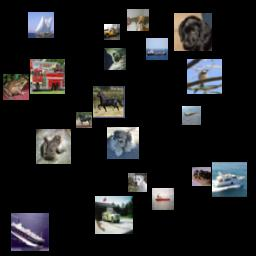airplane: (182, 106, 201, 125)
bird: (187, 59, 222, 94)
dog: (174, 13, 212, 51), (107, 127, 139, 159), (104, 48, 126, 70), (127, 9, 149, 31), (128, 173, 147, 192)
frog: (36, 129, 71, 164), (3, 74, 29, 100), (192, 167, 211, 186)
ship: (11, 213, 49, 251), (212, 162, 247, 197), (28, 12, 54, 38), (152, 188, 174, 210), (146, 38, 168, 60)
truck: (95, 196, 133, 234), (30, 59, 65, 94), (104, 24, 120, 40)
